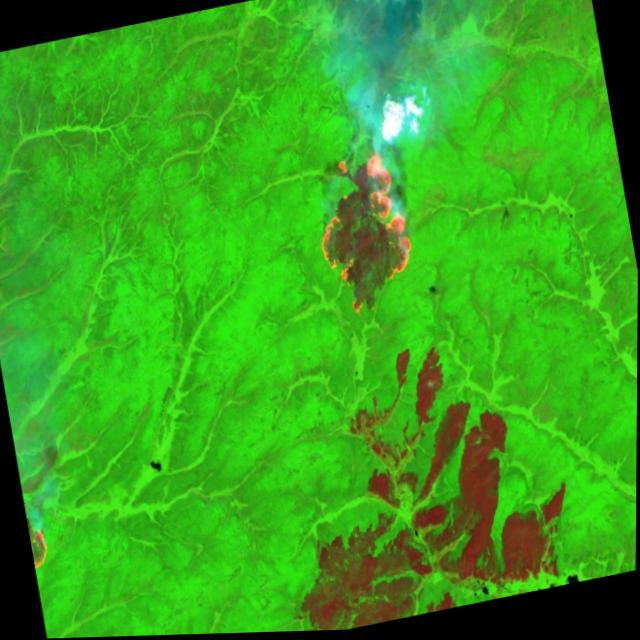fire: (303, 145, 422, 322), (28, 523, 57, 579)
